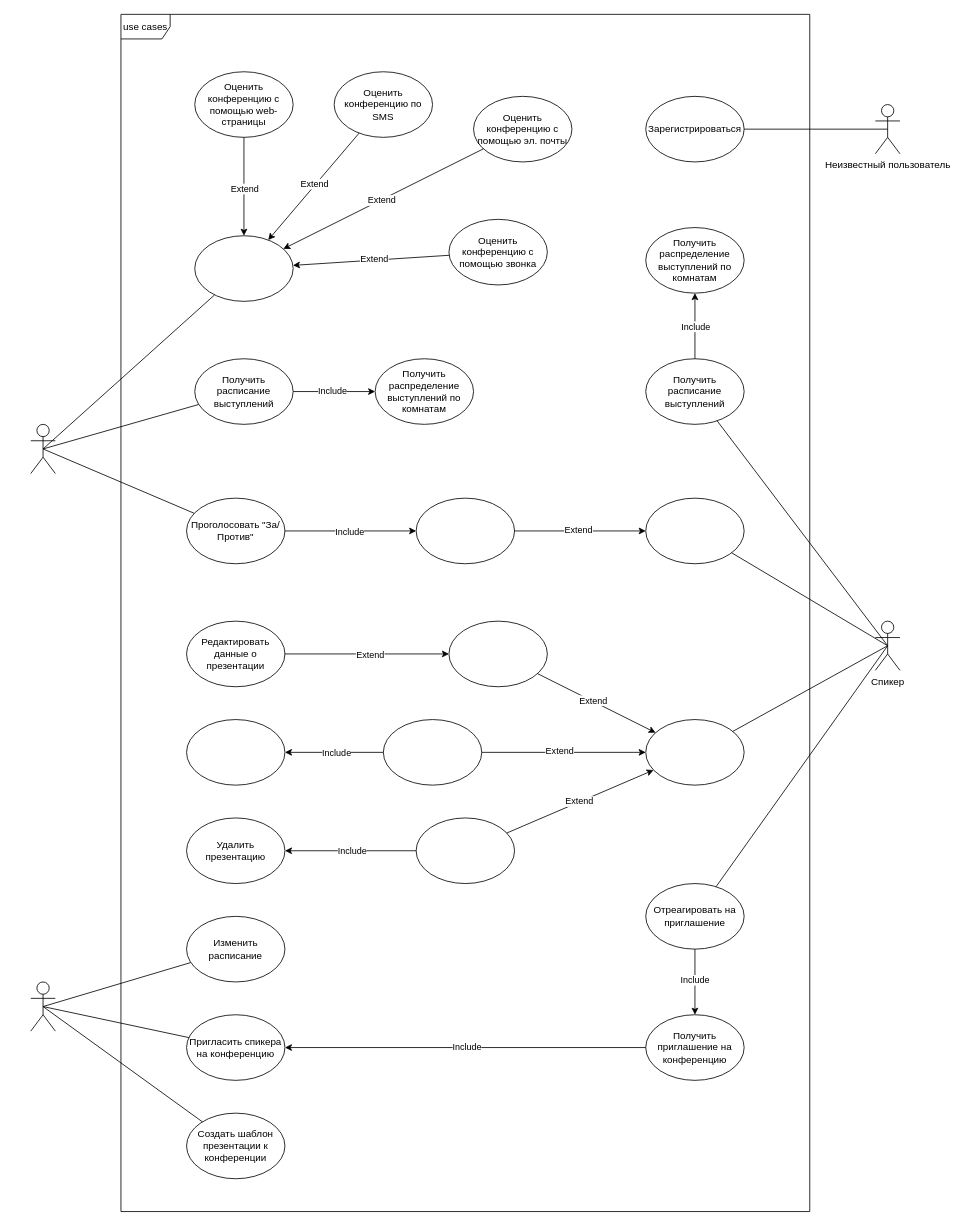
The diagram is 964 pixels wide and 1226 high, and some of its shapes have lost their labels. Each missing label, with the box of its shape:
Добавить выступление: (383, 719, 482, 785)
Добавить презентацию: (186, 719, 285, 785)
Организатор: (30, 981, 55, 1031)
Оценить конференцию: (194, 235, 293, 301)
Провести выступление: (645, 497, 744, 564)
Провести голосование: (415, 497, 515, 564)
Редактировать данные о выступленях: (448, 620, 547, 687)
Удалить выступление: (415, 817, 515, 884)
Управлять своими выступлениями: (645, 719, 744, 785)
Участник: (30, 424, 55, 474)
